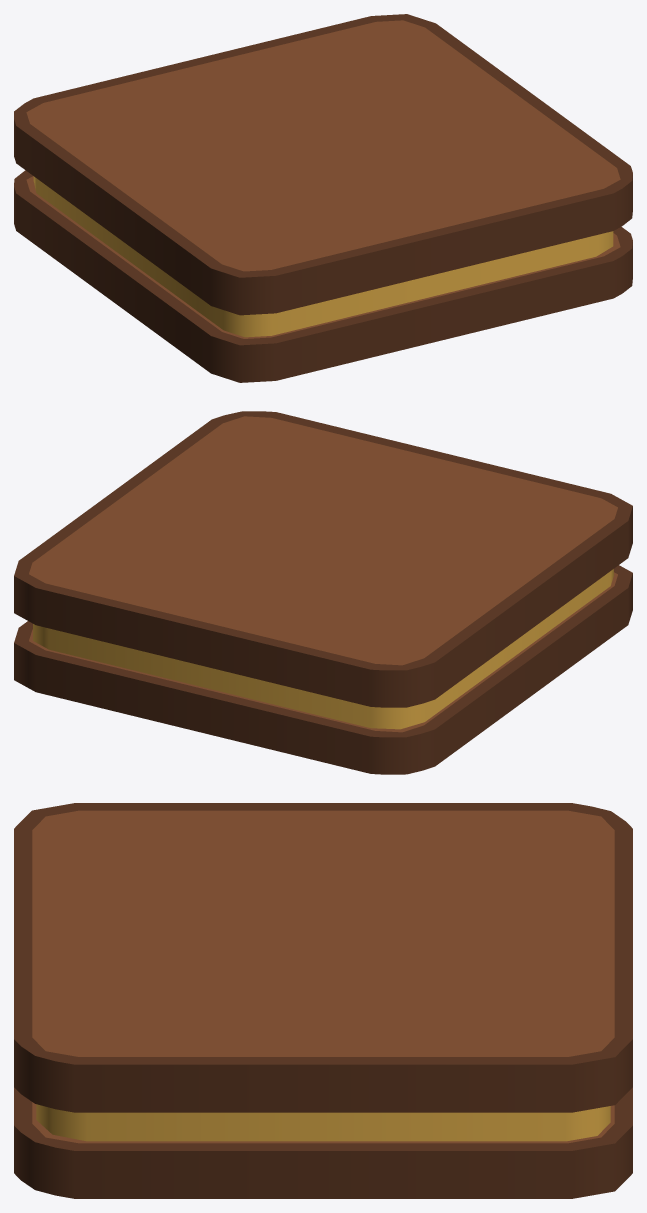
Rendered from GrilledCheese_01.fbx.
3 renders of one model, top to bottom at view 1: azimuth 30°, elevation 25°; view 2: azimuth 150°, elevation 25°; view 3: azimuth 270°, elevation 25°, orthographic. The views are drawn at different scales.
Visible parts, largest first — view 1: GrilledCheese_01; view 2: GrilledCheese_01; view 3: GrilledCheese_01.
Part boxes in pixels (box(x1,y1,x2,y2)): GrilledCheese_01: box(14, 14, 632, 382); GrilledCheese_01: box(14, 411, 632, 774); GrilledCheese_01: box(14, 803, 632, 1198).
Size of the model in its own units: 0.1369 by 0.0328 by 0.1369.
